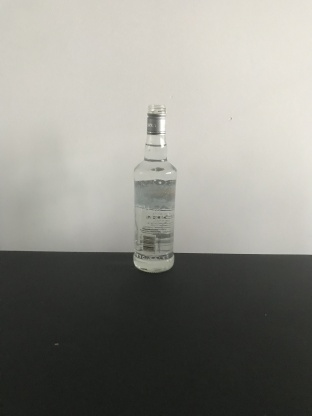nakretka: (145, 102, 167, 136)
